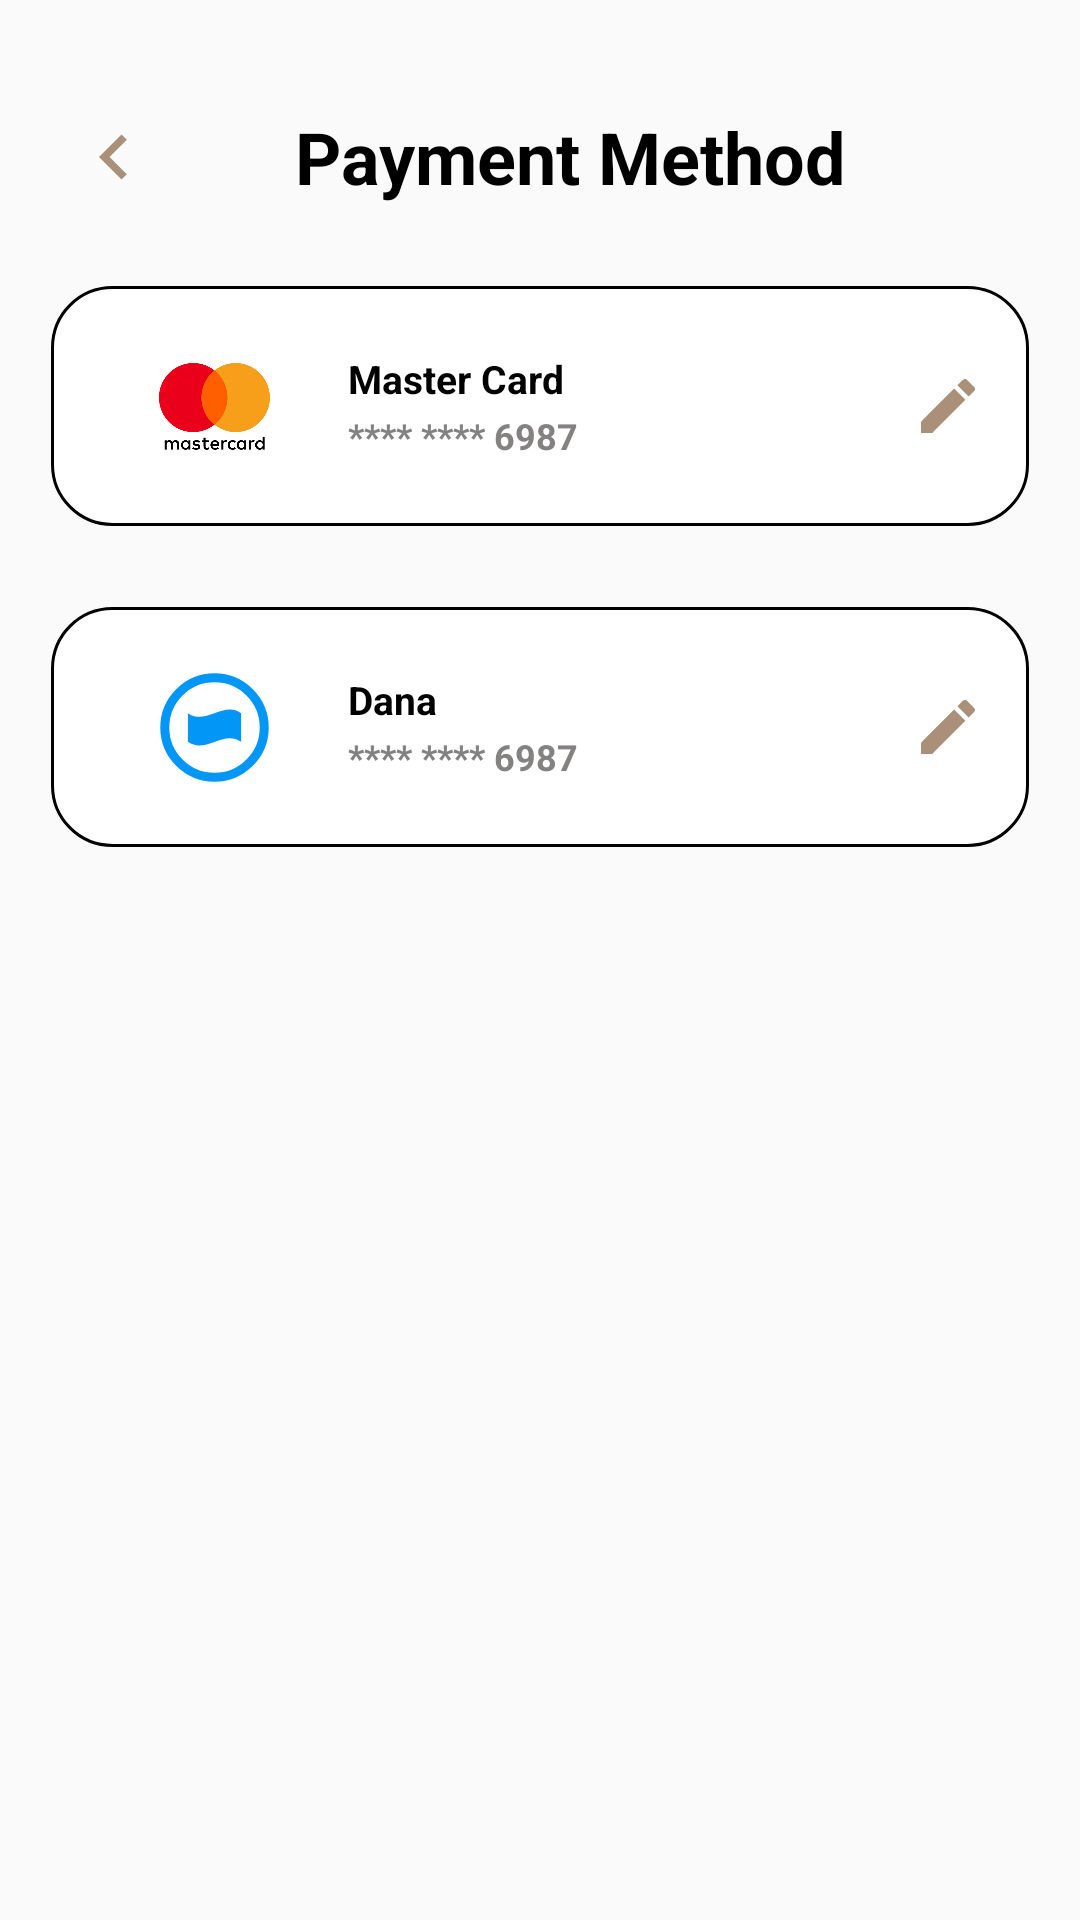

Named icons in this screenshot (1080w x 1920h) and their centers, (x=x, y=y):
edit: (x=948, y=406), (x=948, y=727)
keyboard arrow left: (x=113, y=157)
